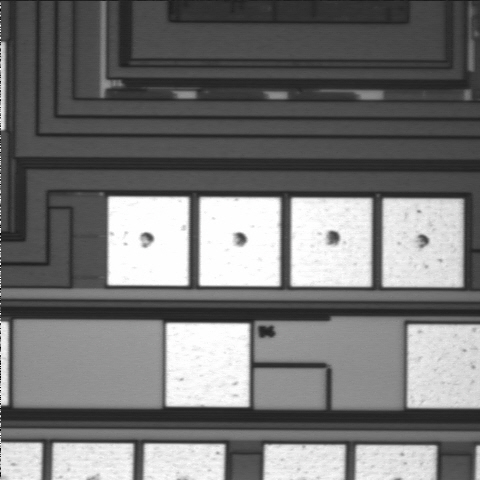pad: (199, 197, 281, 286), (108, 197, 189, 286), (291, 198, 372, 287), (382, 199, 463, 287), (166, 323, 250, 407)
